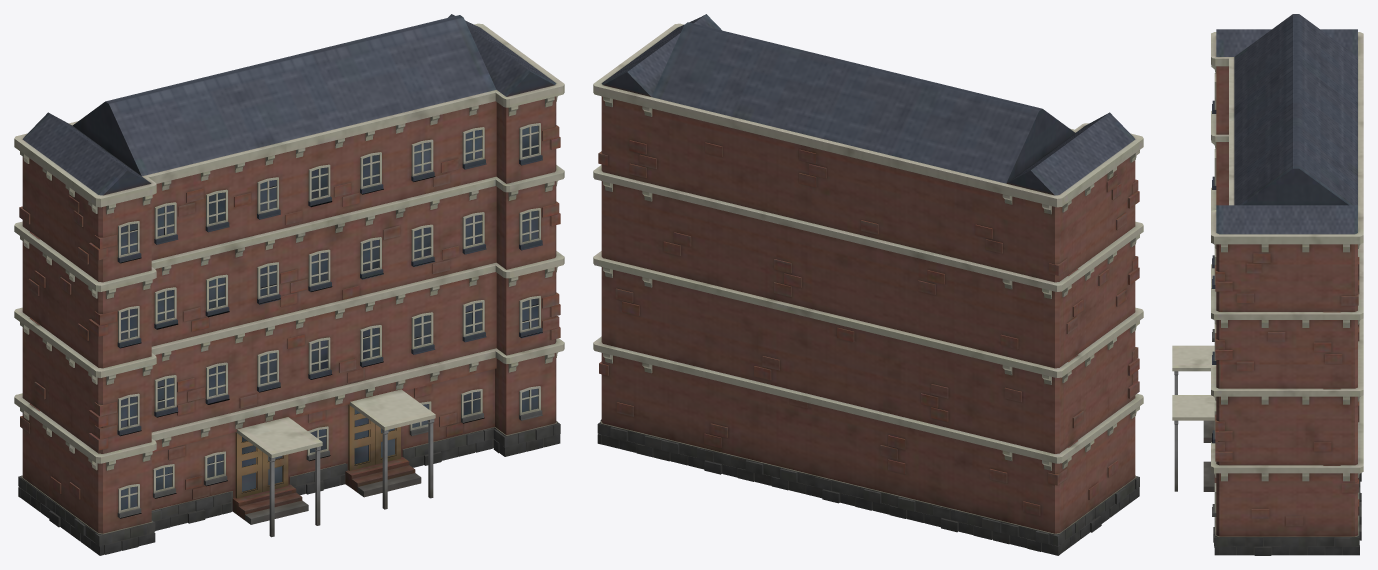
Rendered from building_4Story_Wide_2Doors_Roof.glb.
The picture shows the model from 3 angles, left to right: view 1: azimuth 30°, elevation 25°; view 2: azimuth 150°, elevation 25°; view 3: azimuth 270°, elevation 25°; orthographic projection. The views are drawn at different scales.
Parts seen in each view (by area): view 1: 4Story_Wide_2Doors_Roof_medium; view 2: 4Story_Wide_2Doors_Roof_medium; view 3: 4Story_Wide_2Doors_Roof_medium.
Part boxes in pixels (<box>): 4Story_Wide_2Doors_Roof_medium: <box>14,14,564,555</box>; 4Story_Wide_2Doors_Roof_medium: <box>593,14,1143,555</box>; 4Story_Wide_2Doors_Roof_medium: <box>1172,14,1363,555</box>.
Bounding box in the file's own units: 6.83 × 5.68 × 2.7.
2 materials, 2 textured.
